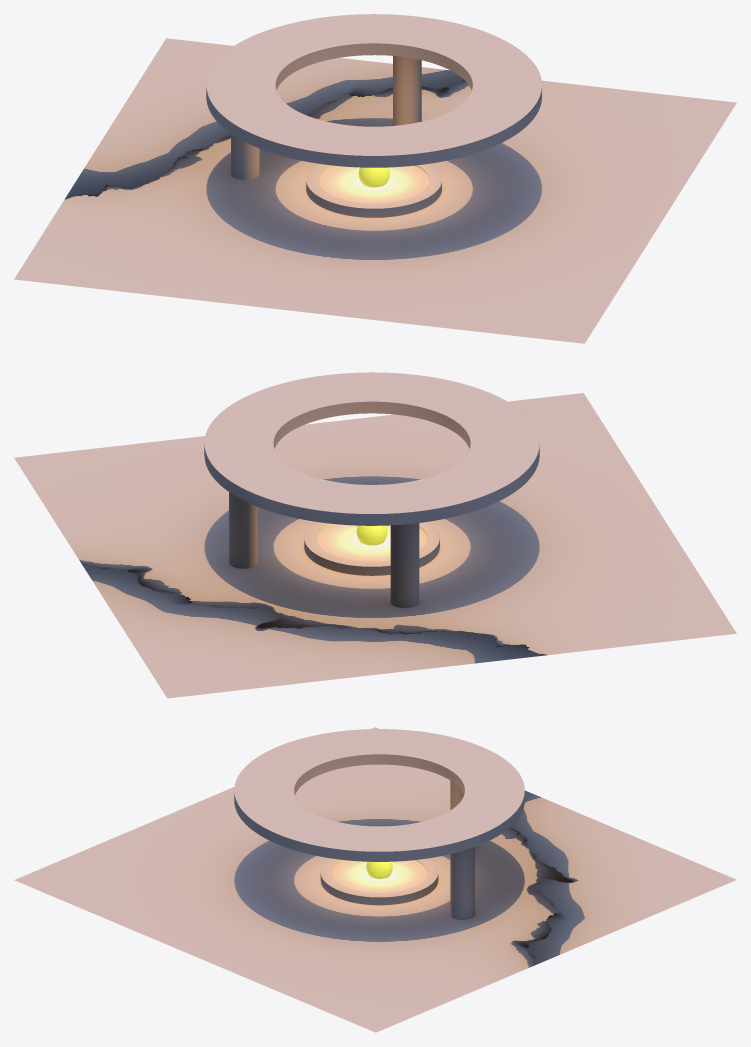
Rendered from Site.gltf.
3 views of the same model, one above another, from view 1: azimuth 30°, elevation 25°; view 2: azimuth 150°, elevation 25°; view 3: azimuth 270°, elevation 25° (orthographic). The views are drawn at different scales.
Parts seen in each view (by area): view 1: Build, Cube; view 2: Build, Cube; view 3: Build.
Boxes of the visible parts, bbox=[...] form: Build: bbox=[14, 14, 736, 343]; Cube: bbox=[358, 167, 389, 187]; Build: bbox=[14, 372, 736, 698]; Cube: bbox=[356, 525, 387, 545]; Build: bbox=[14, 727, 736, 1032].
Size of what is drawn, in the model's own units: 32.82 by 4.51 by 32.82.
Materials: 2 (2 with a texture image).
